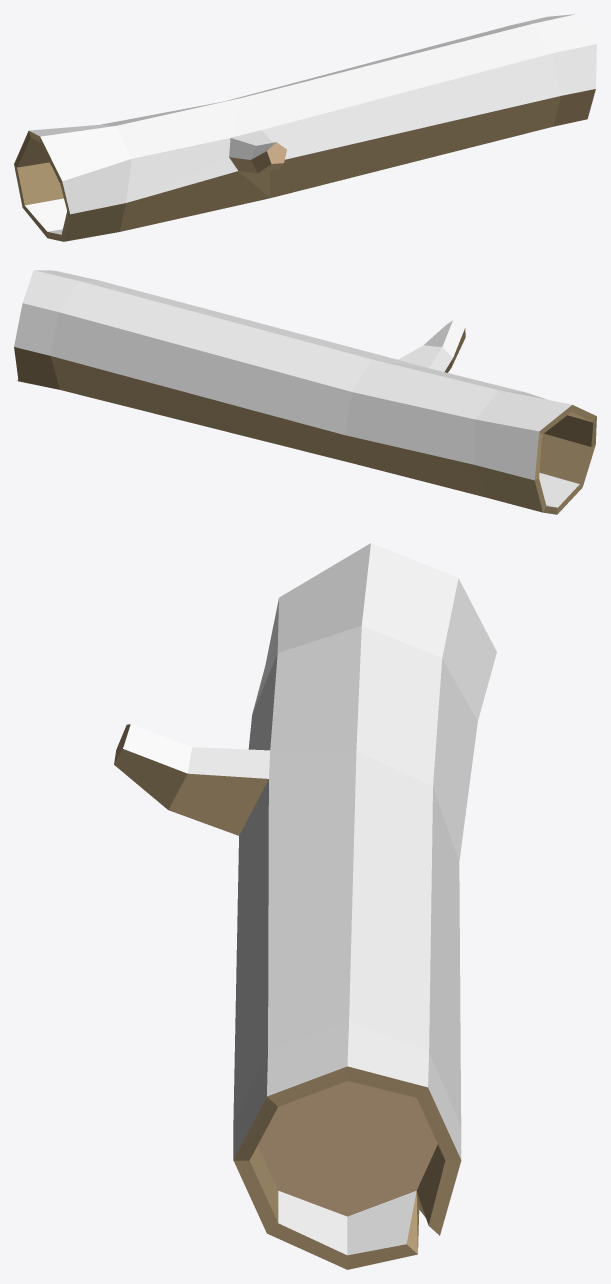
File: Acacia_Log_Snow_08_LOD.fbx
3 views of the same model, one above another, from view 1: azimuth 30°, elevation 25°; view 2: azimuth 150°, elevation 25°; view 3: azimuth 270°, elevation 25° (orthographic). The views are drawn at different scales.
Visible parts, largest first — view 1: Acacia_Log_Snow_08_LOD0; view 2: Acacia_Log_Snow_08_LOD0; view 3: Acacia_Log_Snow_08_LOD0.
Part boxes in pixels (box(x1,y1,x2,y2)): Acacia_Log_Snow_08_LOD0: box(14, 14, 596, 241); Acacia_Log_Snow_08_LOD0: box(14, 270, 596, 514); Acacia_Log_Snow_08_LOD0: box(114, 543, 496, 1269).
Size of what is drawn, in the model's own units: 211 by 41.35 by 65.89.
